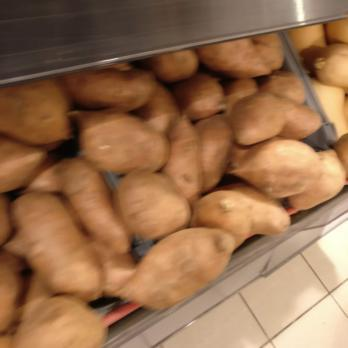Sweet potato: (102, 66, 233, 300), (1, 90, 106, 346), (222, 39, 299, 236), (301, 22, 348, 152)
